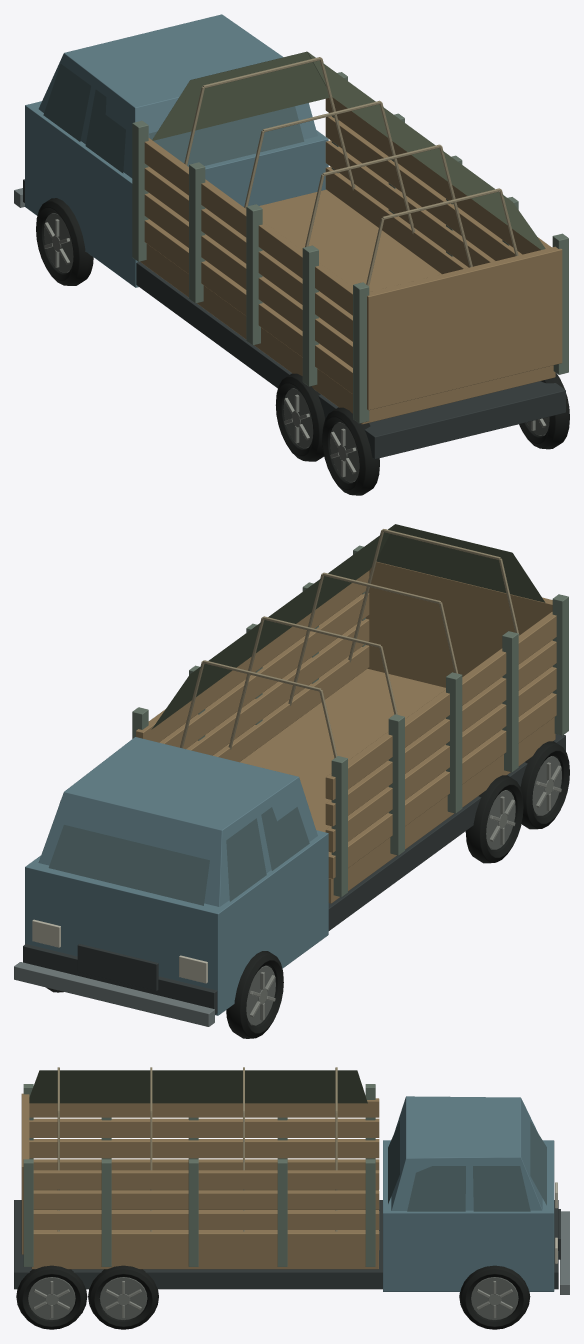
File: goods_lorry.glb
The picture shows the model from 3 angles, top to bottom: view 1: azimuth 30°, elevation 25°; view 2: azimuth 150°, elevation 25°; view 3: azimuth 270°, elevation 25°; orthographic projection. The views are drawn at different scales.
Visible parts, largest first — view 1: goods_lorry; view 2: goods_lorry; view 3: goods_lorry.
Boxes of the visible parts, x1,y1,x2,y2 form: goods_lorry: (14, 14, 569, 495); goods_lorry: (14, 524, 569, 1038); goods_lorry: (14, 1067, 569, 1329).
Bounding box in the file's own units: 2.43 × 2.91 × 7.2.
